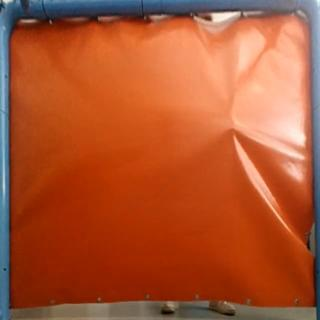Hit-hRxx: (226, 122, 244, 136)
